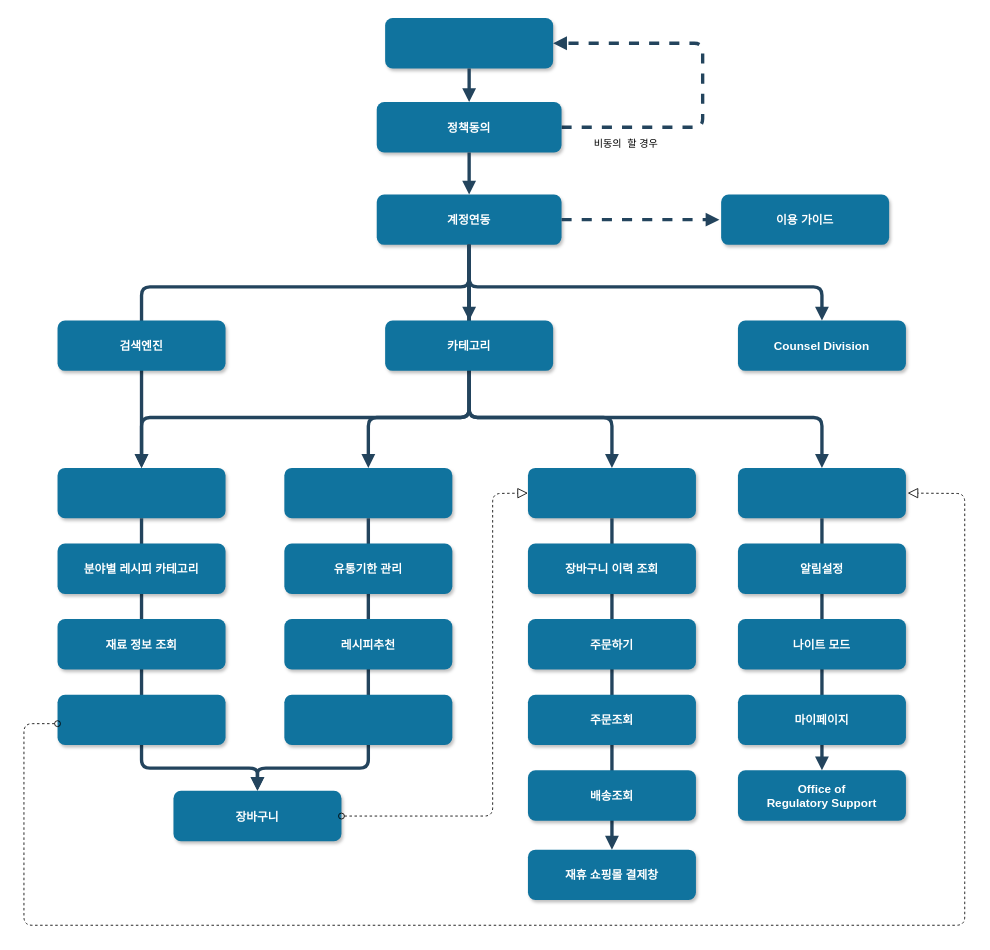
Some shapes in this 990 by 950 pixel diagram are drawn without their labels. Each missing label, with the centre of its shape:
Main: point 469,44
MENU1 : 레시피: point 142,494
MENU2 : My냉장고: point 369,494
MENU3 : 장바구니: point 612,494
MENU4 : 설정: point 822,494
설정: point 142,721
알림설정 (재고 부족 시, 알림여부): point 369,721
